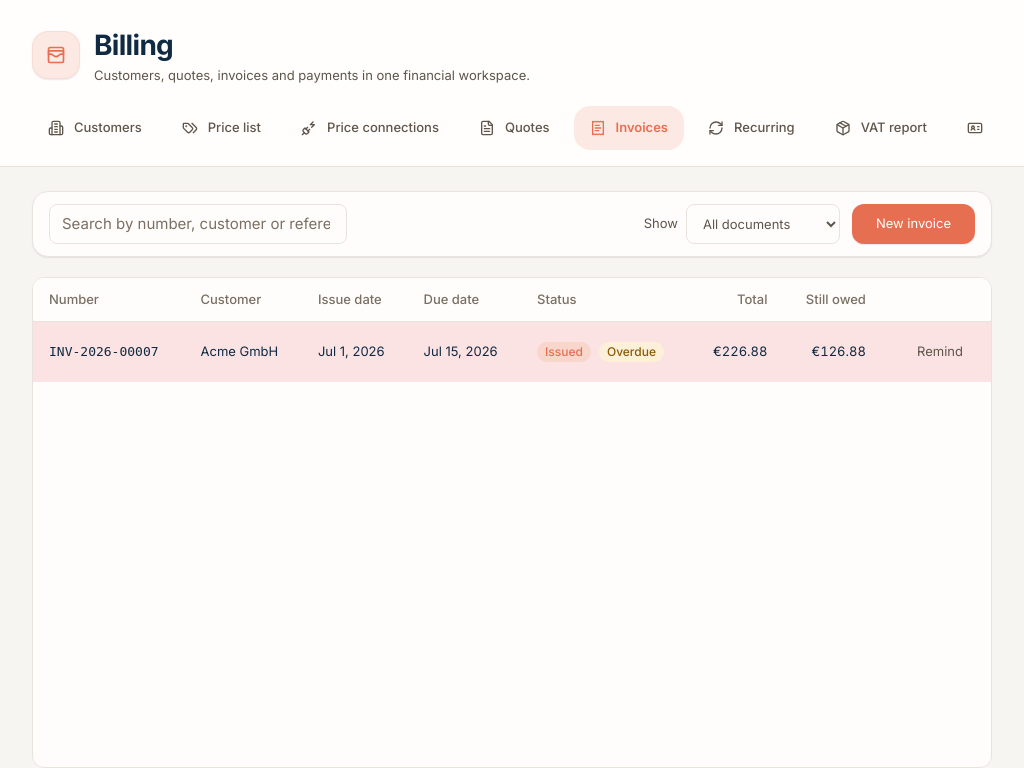
chasing a late invoice from the list › an empty overdue view says so, rather than reading as an empty ledger
The image size is (1024, 768).
Check: the text "INV-2026-00007" is shown, box 49,344 -> 159,359
Select "Overdue" in the dropdown labelled "Show" at (763, 224), box 686,204 -> 840,244
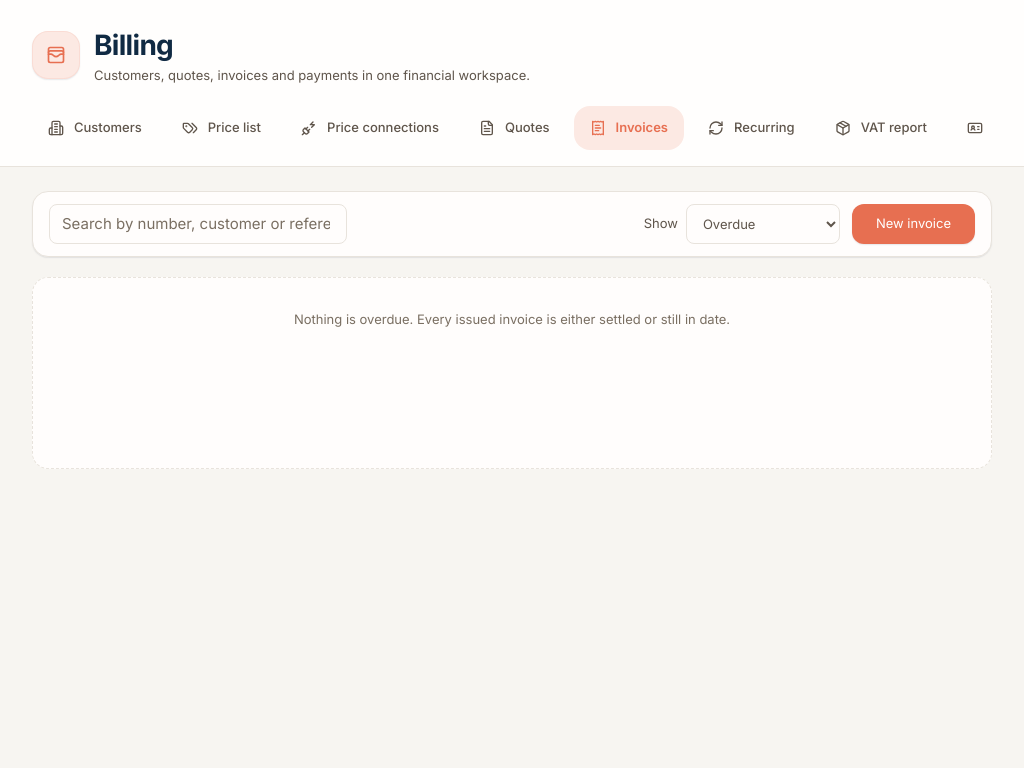
Check: the text "Nothing is overdue. Every issued invoice is either settled or still in date." is shown, box 32,276 -> 992,468
